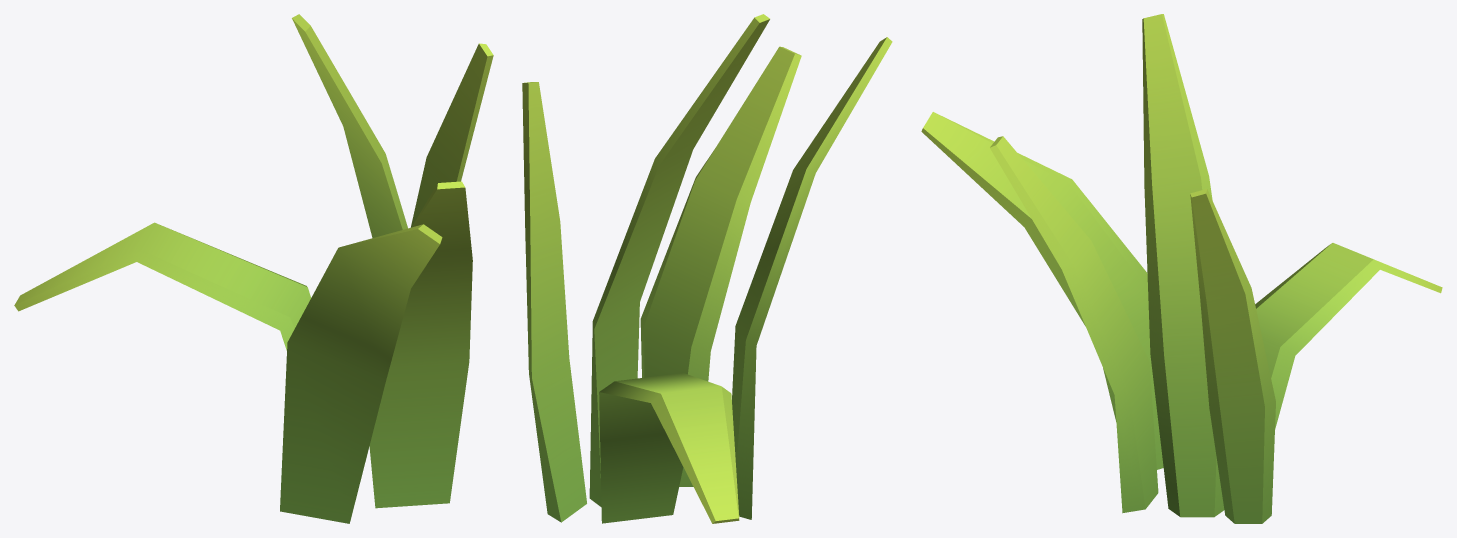
The model's file is Grass5.FBX.
3 renders of one model, left to right at view 1: azimuth 30°, elevation 25°; view 2: azimuth 150°, elevation 25°; view 3: azimuth 270°, elevation 25°, orthographic. The views are drawn at different scales.
Parts seen in each view (by area): view 1: Grass5; view 2: Grass5; view 3: Grass5.
Boxes of the visible parts, x1,y1,x2,y2 form: Grass5: [14, 14, 493, 523]; Grass5: [522, 14, 892, 523]; Grass5: [921, 14, 1442, 523].
Bounding box in the file's own units: 23.5 × 32.67 × 34.75.
